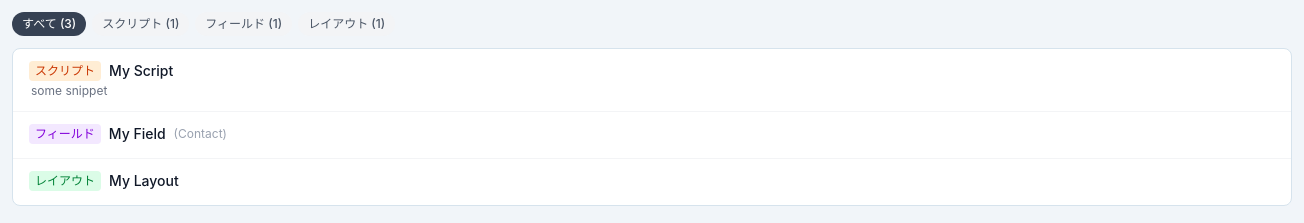
Test case: SearchResults › filter_resets_to_all_when_same_filter_clicked_twice
The width and height of the screenshot is (1304, 223).
Click the button "スクリプト (1)": (141, 24) x1=92 y1=12 x2=189 y2=36
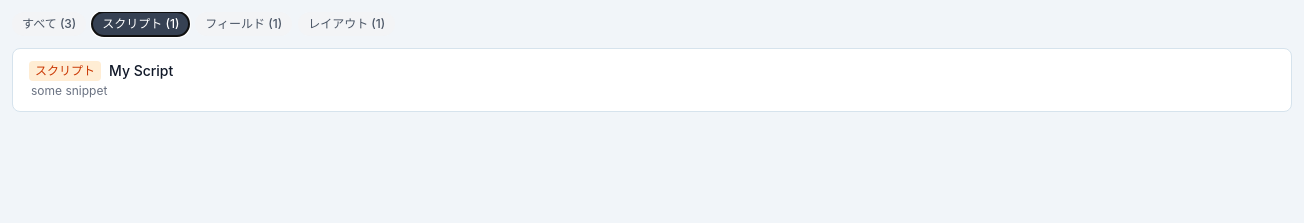
Click the button "スクリプト (1)": (141, 24) x1=92 y1=12 x2=189 y2=36
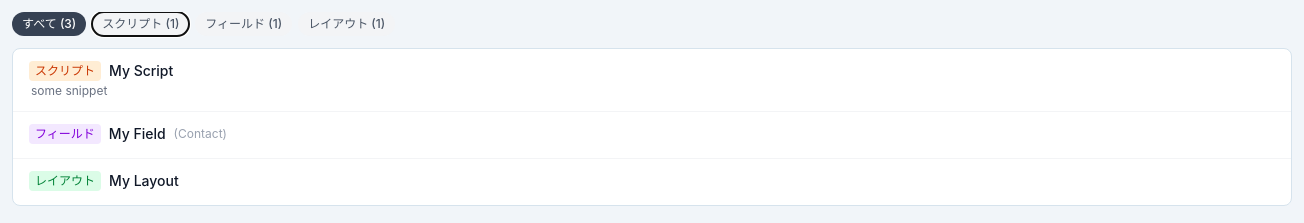
expect the text "My Script" is shown: met, box x1=109 y1=61 x2=173 y2=81
expect the text "My Field" is shown: met, box x1=109 y1=124 x2=166 y2=144
expect the text "My Layout" is shown: met, box x1=109 y1=171 x2=179 y2=191
